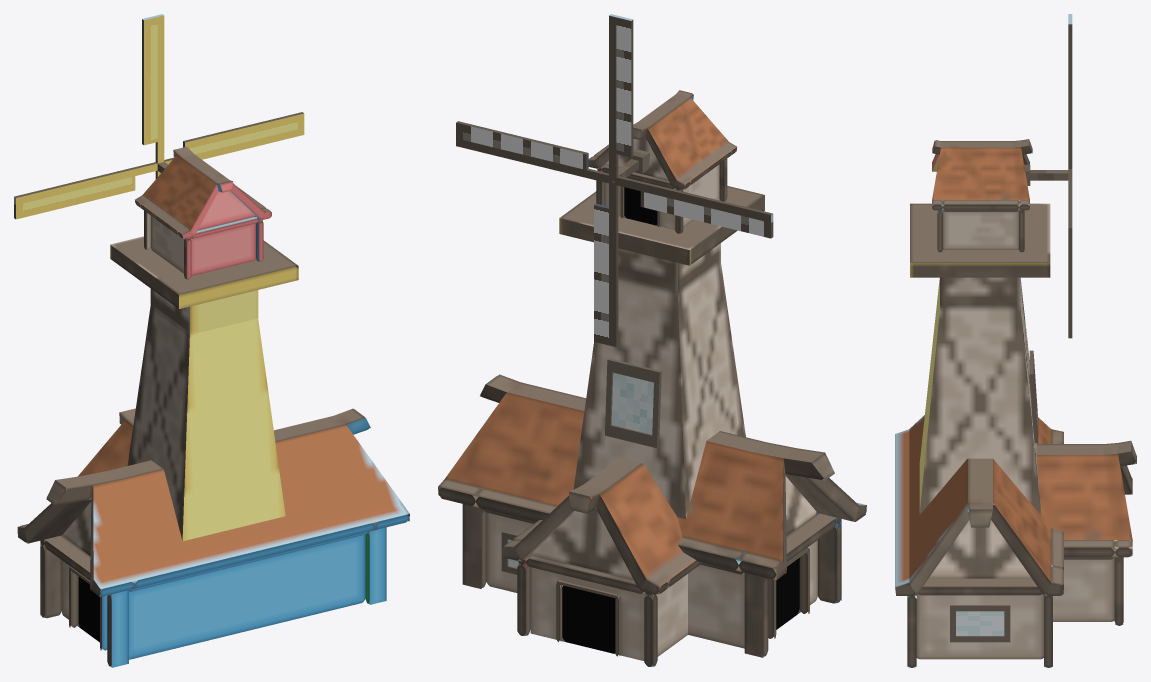
Rendered from windmill.fbx.
3 views of the same model, side by side, from view 1: azimuth 30°, elevation 25°; view 2: azimuth 150°, elevation 25°; view 3: azimuth 270°, elevation 25° (orthographic). The views are drawn at different scales.
Parts seen in each view (by area): view 1: main house, tower, top house, cube_2, cube, cube_3, front; view 2: main house, tower, front, top house, tower window, cube_2, cube, cube_1, cube_3; view 3: main house, tower, front, top house, window_1, cube, tower window, cube_1, fanbase, cube_3.
Part boxes in pixels (x1,y1,x2,y2): main house: [17, 408, 409, 667]; tower: [110, 236, 298, 541]; top house: [135, 146, 271, 279]; cube_2: [14, 162, 157, 219]; cube: [142, 14, 164, 163]; cube_3: [164, 112, 304, 164]; front: [78, 408, 135, 476]; main house: [438, 374, 866, 657]; tower: [559, 186, 764, 519]; front: [502, 458, 701, 666]; top house: [588, 90, 737, 233]; tower window: [605, 358, 661, 448]; cube_2: [614, 176, 773, 238]; cube: [609, 14, 633, 180]; cube_1: [594, 181, 618, 346]; cube_3: [456, 121, 613, 183]; main house: [895, 415, 1063, 667]; tower: [910, 203, 1050, 514]; front: [1036, 440, 1136, 625]; top house: [932, 139, 1032, 252]; window_1: [950, 605, 1010, 642]; cube: [1068, 14, 1072, 168]; tower window: [1029, 350, 1038, 443]; cube_1: [1068, 250, 1072, 338]; fanbase: [1030, 170, 1068, 180]; cube_3: [1068, 169, 1072, 249].
Bounding box in the file's own units: 291 × 492 × 188.
6 materials, 6 textured.
